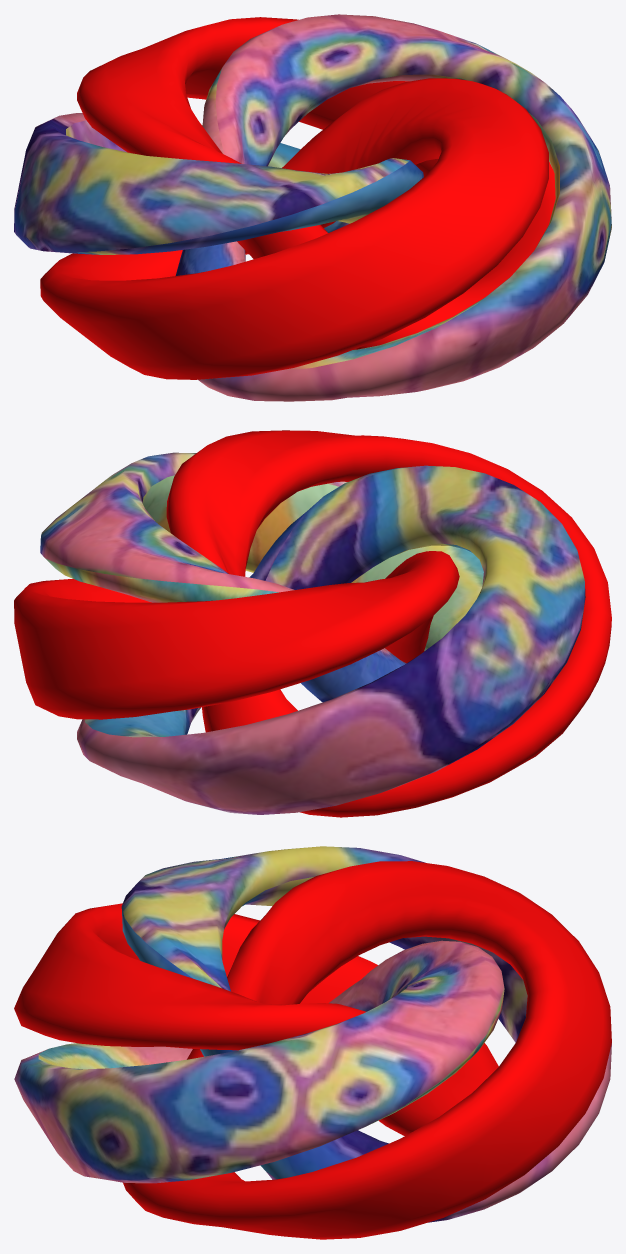
Rendered from demon_rebirth.fbx.
3 renders of one model, top to bottom at view 1: azimuth 30°, elevation 25°; view 2: azimuth 150°, elevation 25°; view 3: azimuth 270°, elevation 25°, orthographic.
Parts seen in each view (by area): view 1: Twisted Torus 1; view 2: Twisted Torus 1; view 3: Twisted Torus 1.
Part boxes in pixels (<box>): Twisted Torus 1: <box>14,14,611,401</box>; Twisted Torus 1: <box>14,430,611,817</box>; Twisted Torus 1: <box>14,846,611,1239</box>.
Size of the model in its own units: 1.57 by 1.57 by 0.6261.
